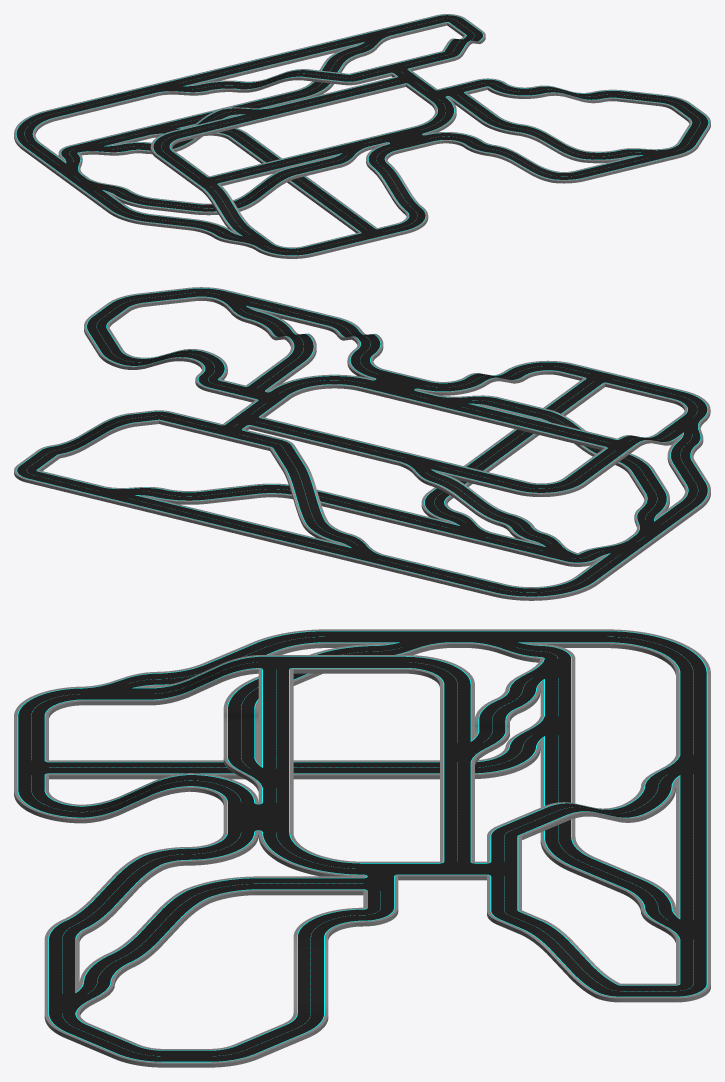
Rendered from GCU Track.fbx.
The picture shows the model from 3 angles, top to bottom: view 1: azimuth 30°, elevation 25°; view 2: azimuth 150°, elevation 25°; view 3: azimuth 270°, elevation 25°; orthographic projection. The views are drawn at different scales.
Parts seen in each view (by area): view 1: Wide Right Turn.012; view 2: Wide Right Turn.012; view 3: Wide Right Turn.012.
Boxes of the visible parts, box(x1,y1,x2,y2) form: Wide Right Turn.012: box(14, 14, 710, 258); Wide Right Turn.012: box(14, 287, 710, 600); Wide Right Turn.012: box(14, 629, 710, 1067).
Bounding box in the file's own units: 1177 × 45 × 798.
